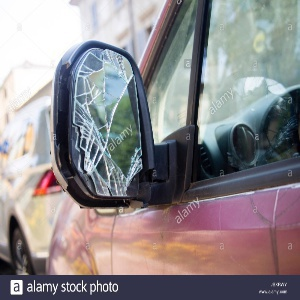side_mirror: (49, 38, 152, 210)
